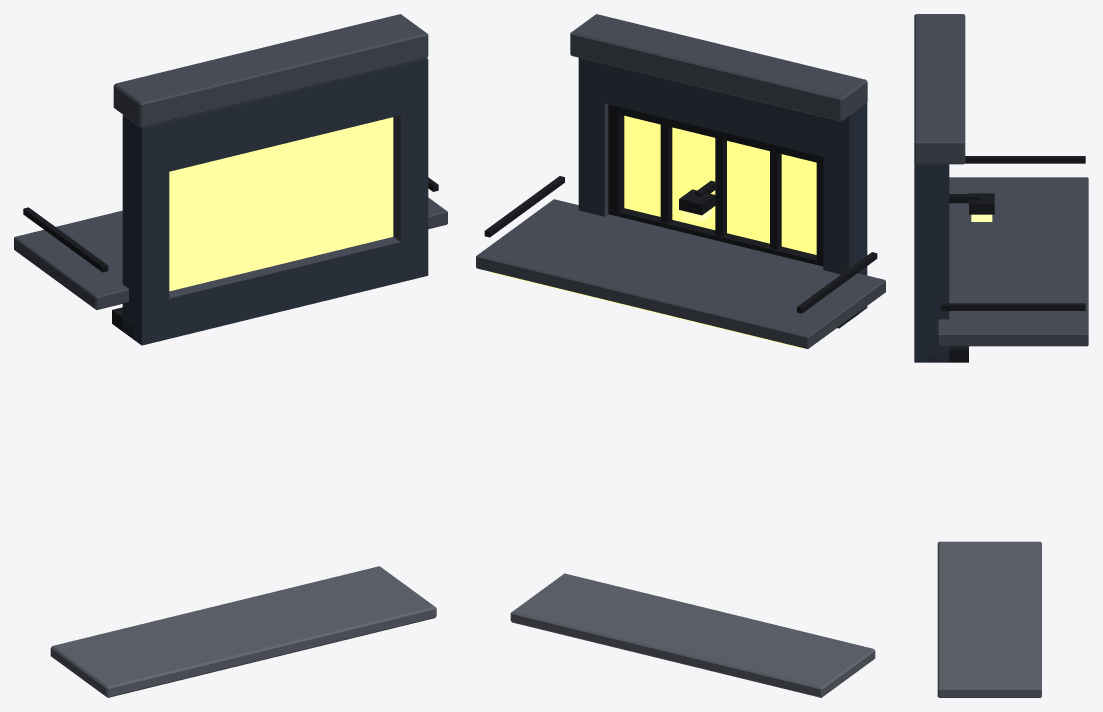
Rendered from hall_door_wall.glb.
3 views of the same model, side by side, from view 1: azimuth 30°, elevation 25°; view 2: azimuth 150°, elevation 25°; view 3: azimuth 270°, elevation 25° (orthographic). The views are drawn at different scales.
Visible parts, largest first — view 1: wall; view 2: wall; view 3: wall.
Boxes of the visible parts, bbox=[...] form: wall: bbox=[14, 14, 447, 697]; wall: bbox=[476, 14, 885, 697]; wall: bbox=[914, 14, 1088, 697].
Bounding box in the file's own units: 3.2 × 5.2 × 1.5.
